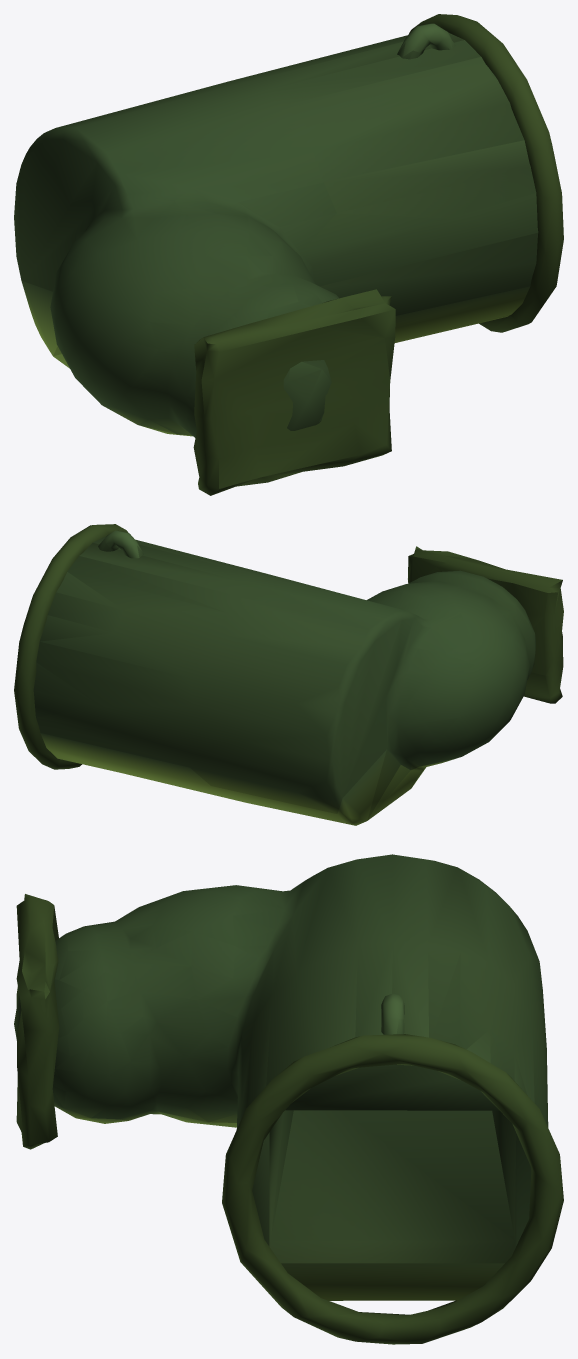
Rendered from mire_drowned_boot_lod2.glb.
The picture shows the model from 3 angles, top to bottom: view 1: azimuth 30°, elevation 25°; view 2: azimuth 150°, elevation 25°; view 3: azimuth 270°, elevation 25°; orthographic projection. The views are drawn at different scales.
Parts seen in each view (by area): view 1: mire_drowned_boot.001; view 2: mire_drowned_boot.001; view 3: mire_drowned_boot.001.
Boxes of the visible parts, x1,y1,x2,y2 form: mire_drowned_boot.001: (14, 14, 563, 495); mire_drowned_boot.001: (14, 524, 563, 825); mire_drowned_boot.001: (14, 854, 563, 1344).
Size of the model in its own units: 12.01 by 7.21 by 11.16.
